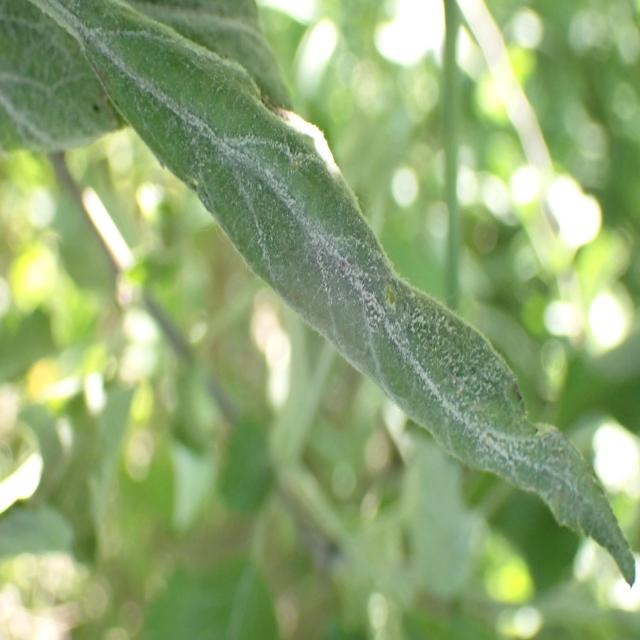Powdery_mildew: (16, 0, 635, 587), (0, 0, 279, 171)
